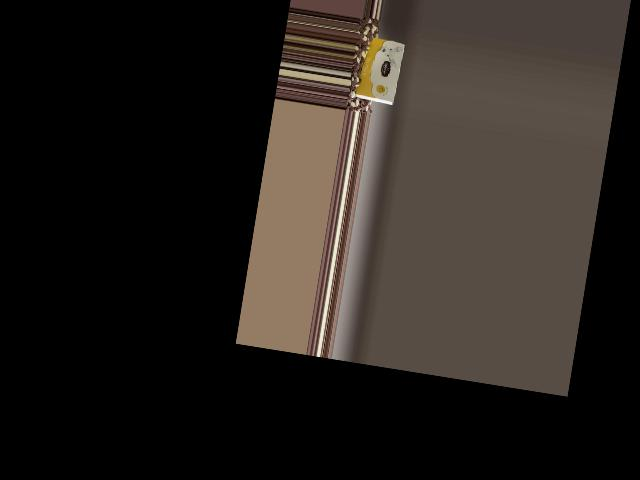chocolate: (352, 31, 407, 108)
